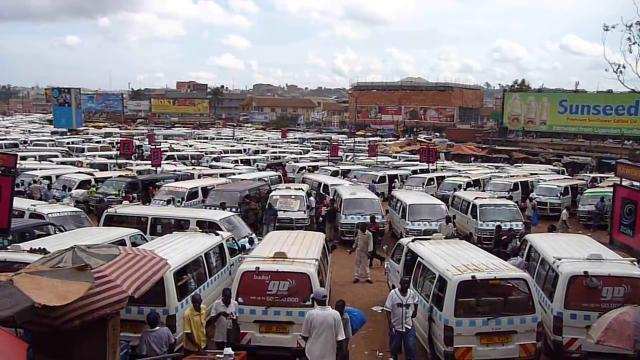van: (384, 231, 540, 360), (3, 226, 163, 348), (100, 227, 244, 354), (513, 234, 640, 359), (229, 229, 336, 356), (101, 202, 253, 259), (8, 225, 149, 266), (303, 176, 382, 240), (447, 190, 526, 250), (92, 172, 187, 219), (203, 178, 279, 227), (387, 189, 451, 242), (0, 198, 94, 234), (146, 176, 234, 211), (12, 165, 95, 202), (578, 180, 638, 226), (263, 184, 313, 233), (70, 170, 134, 208), (480, 173, 544, 210), (531, 177, 587, 219), (2, 218, 61, 254), (351, 167, 410, 199), (219, 170, 284, 199), (433, 174, 482, 205), (307, 164, 355, 182), (285, 161, 327, 181), (513, 163, 564, 176), (574, 173, 615, 189)
